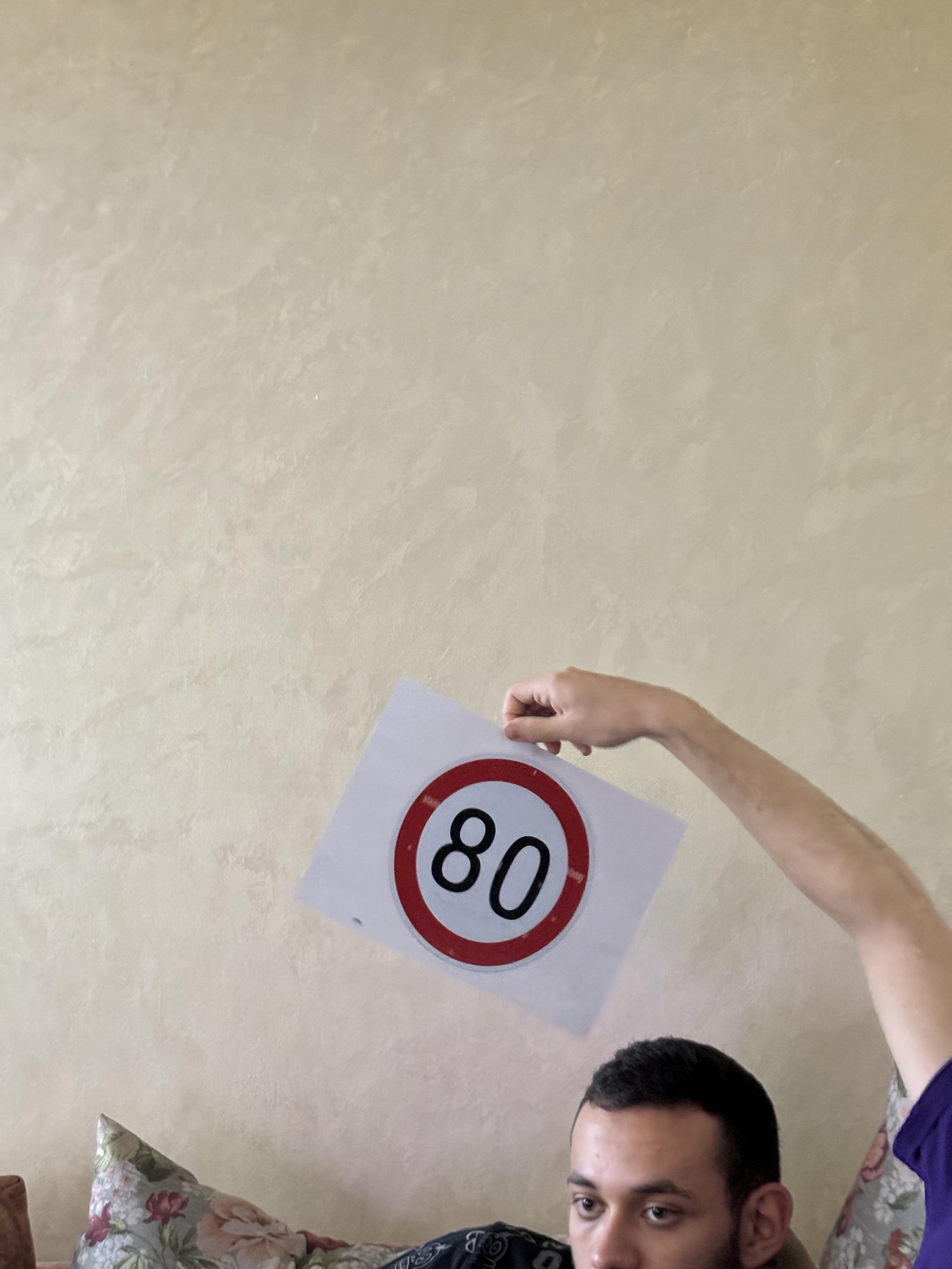80-Speed: (385, 747, 603, 979)
